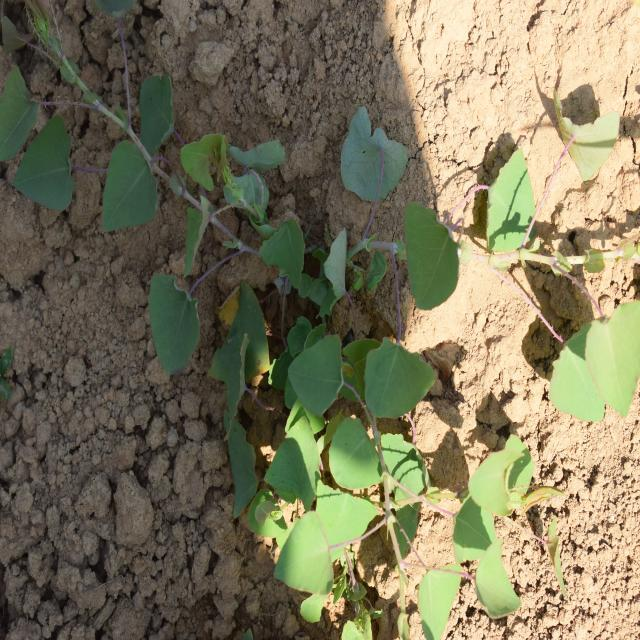Asiatic_Smartweed: (321, 110, 572, 317), (266, 295, 418, 582), (0, 0, 167, 228), (402, 433, 567, 626), (141, 252, 289, 427), (543, 282, 640, 448)
